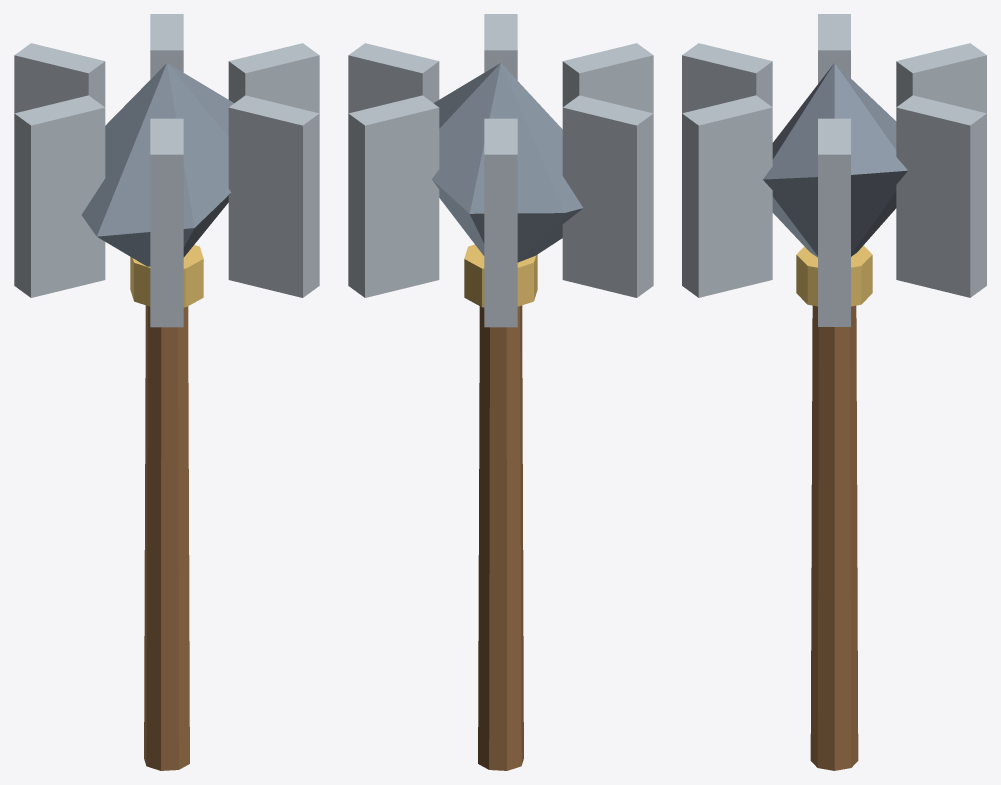
File: cleric_mace.glb
The picture shows the model from 3 angles, left to right: view 1: azimuth 30°, elevation 25°; view 2: azimuth 150°, elevation 25°; view 3: azimuth 270°, elevation 25°; orthographic projection.
Visible parts, largest first — view 1: cleric_mace; view 2: cleric_mace; view 3: cleric_mace.
Part boxes in pixels (box(x1,y1,x2,y2)): cleric_mace: box(14, 14, 319, 770); cleric_mace: box(348, 14, 653, 770); cleric_mace: box(682, 14, 986, 770).
Bounding box in the file's own units: 0.35 × 0.81 × 0.3206.
